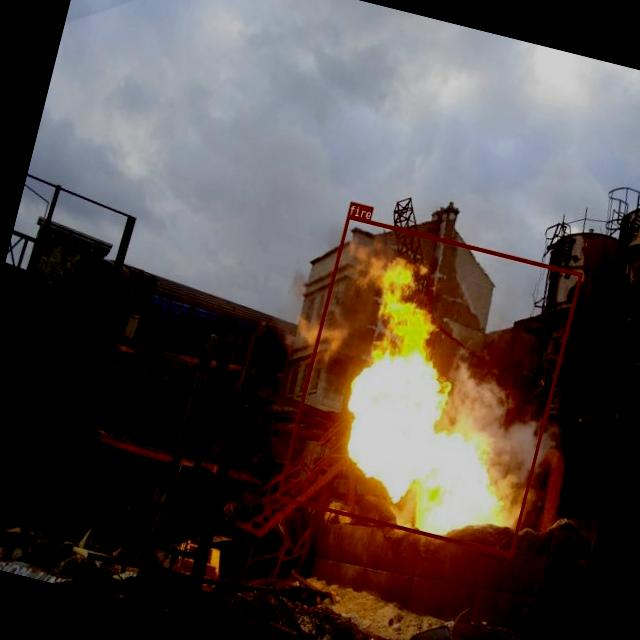fire: (276, 214, 582, 557)
